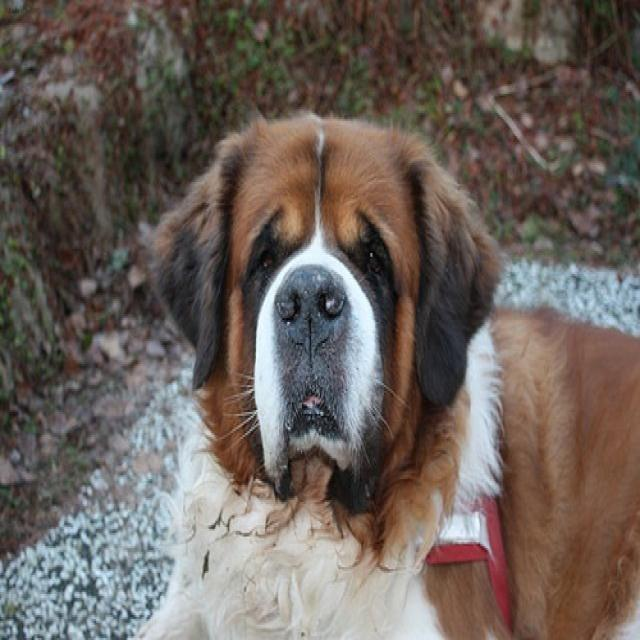dog-saint_bernard: (127, 109, 637, 636)
